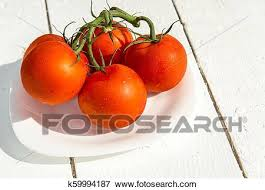tomato: (21, 33, 90, 106), (78, 64, 148, 127), (124, 34, 189, 93)
